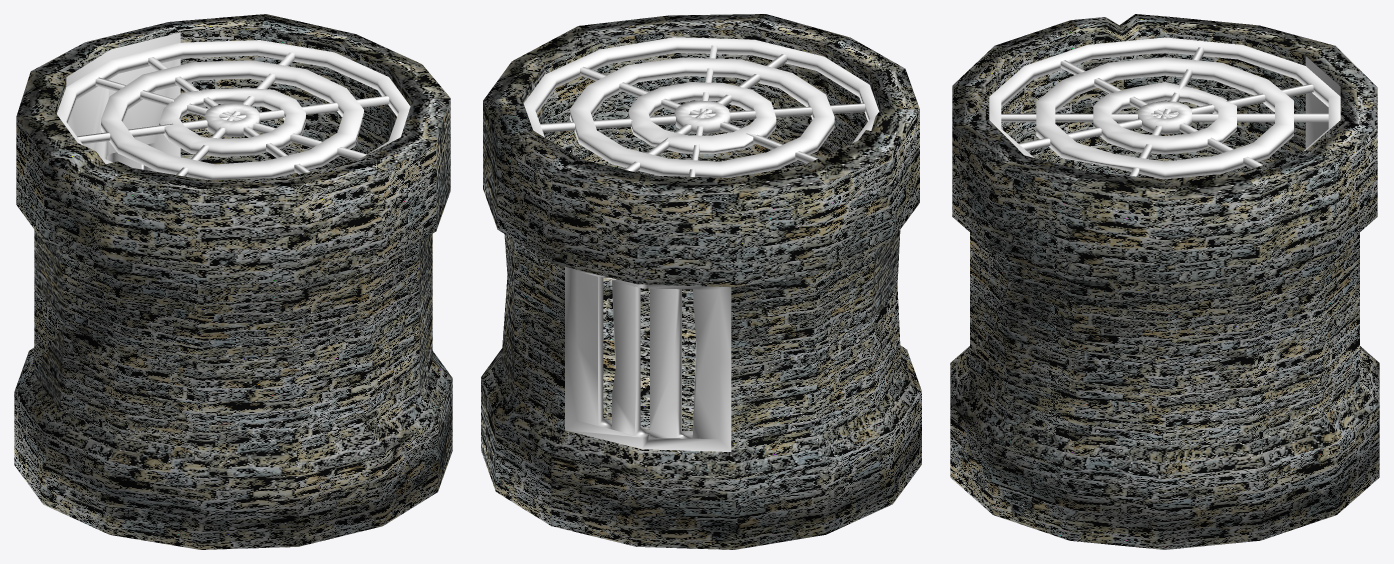
File: tavern_fireplace.fbx
3 views of the same model, side by side, from view 1: azimuth 30°, elevation 25°; view 2: azimuth 150°, elevation 25°; view 3: azimuth 270°, elevation 25° (orthographic).
Visible parts, largest first — view 1: Default_Layer; view 2: Default_Layer; view 3: Default_Layer.
Boxes of the visible parts, left/top/right/bottom form: Default_Layer: left=14, top=14, right=452, bottom=549; Default_Layer: left=481, top=14, right=921, bottom=549; Default_Layer: left=950, top=14, right=1379, bottom=549.
Bounding box in the file's own units: 200 × 177 × 195.
